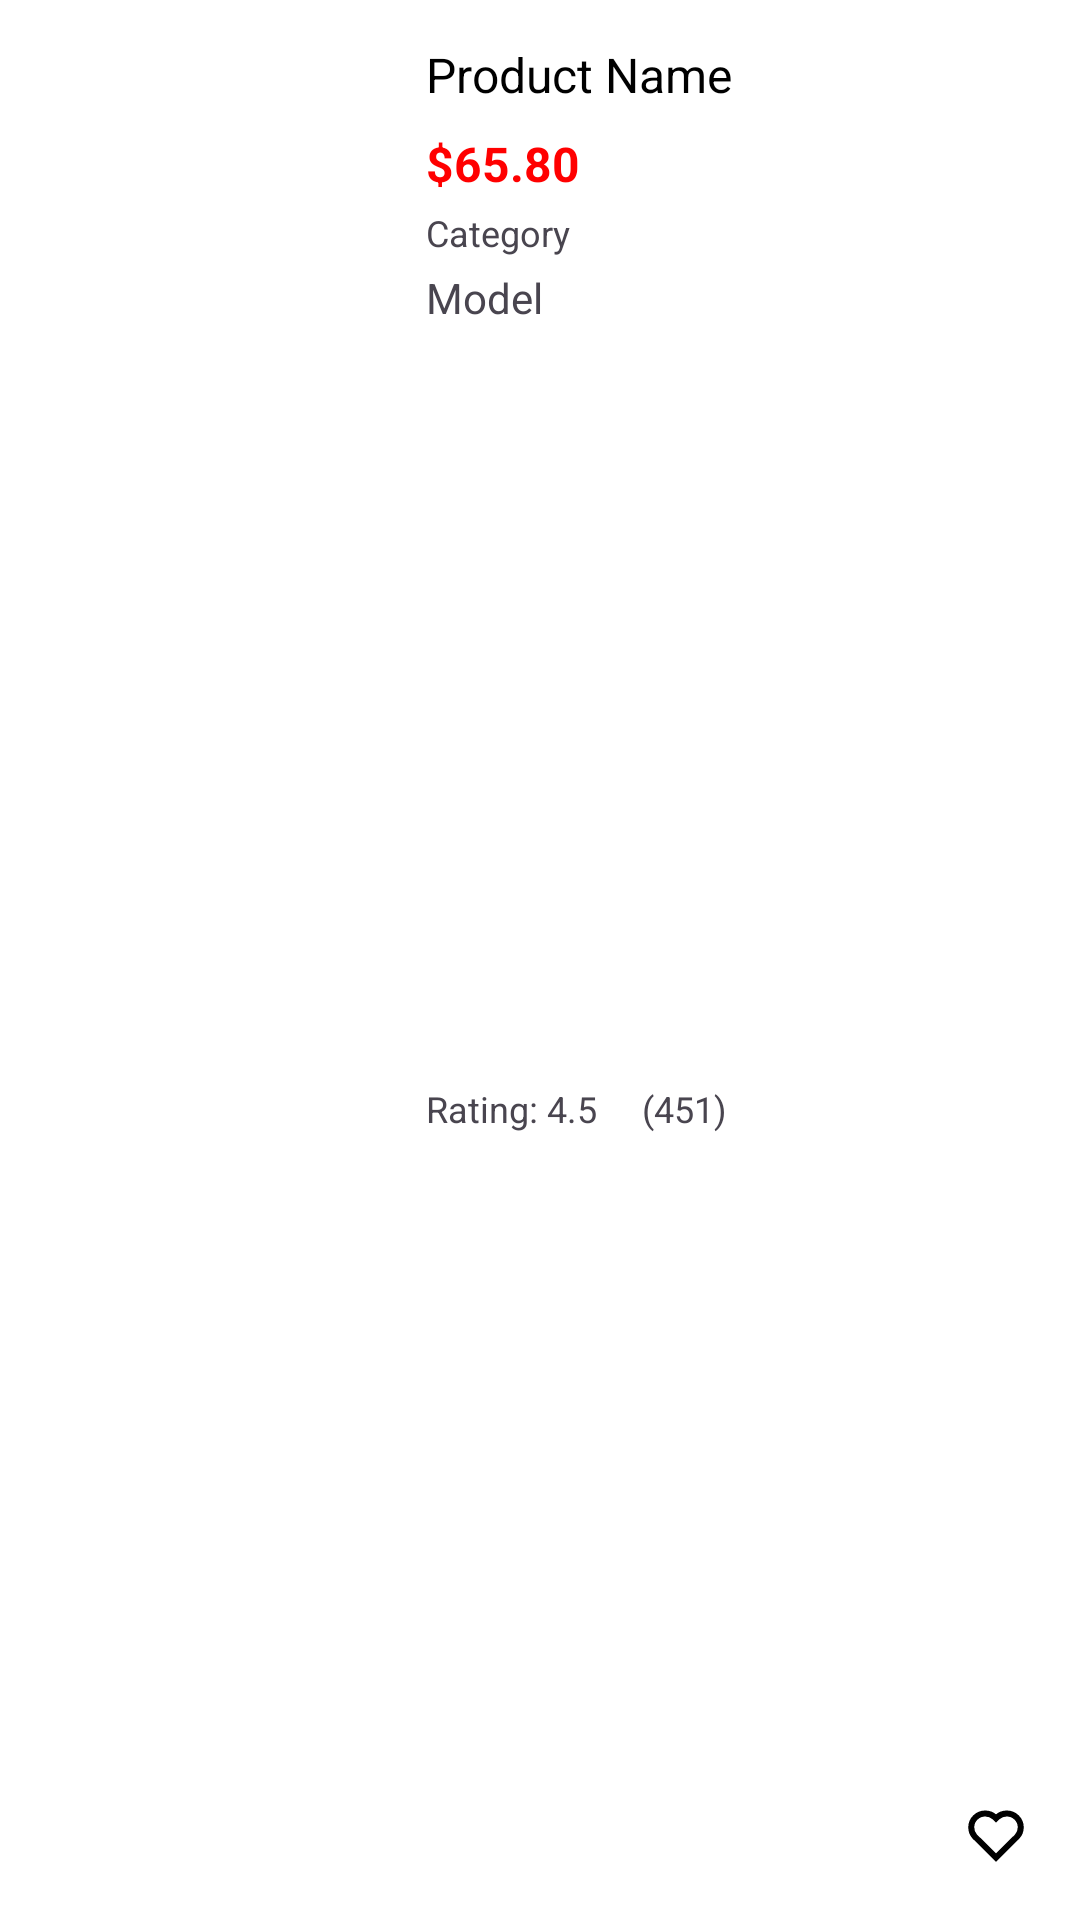

Locate icon controls on the screen. Image size 1080px x 1920px, boxes as (x1, y1, x2, y2).
favorite: (968, 1810, 1024, 1862)
